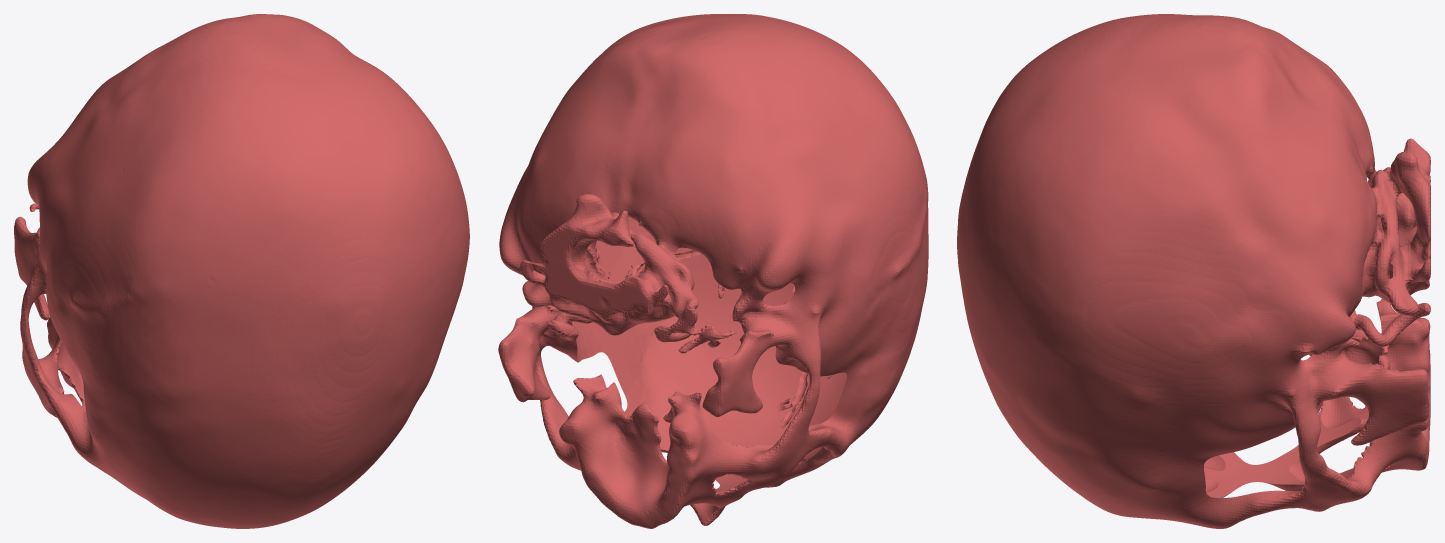
File: skull final (4)-custom.glb
3 renders of one model, left to right at view 1: azimuth 30°, elevation 25°; view 2: azimuth 150°, elevation 25°; view 3: azimuth 270°, elevation 25°, orthographic. The views are drawn at different scales.
Parts seen in each view (by area): view 1: SKULL%20FINAL%20%284%29stl; view 2: SKULL%20FINAL%20%284%29stl; view 3: SKULL%20FINAL%20%284%29stl.
Boxes of the visible parts, x1=… form: SKULL%20FINAL%20%284%29stl: x1=14, y1=14, x2=469, y2=528; SKULL%20FINAL%20%284%29stl: x1=498, y1=14, x2=928, y2=528; SKULL%20FINAL%20%284%29stl: x1=957, y1=14, x2=1430, y2=528.
Bounding box in the file's own units: 1.03 × 1.29 × 1.13.
